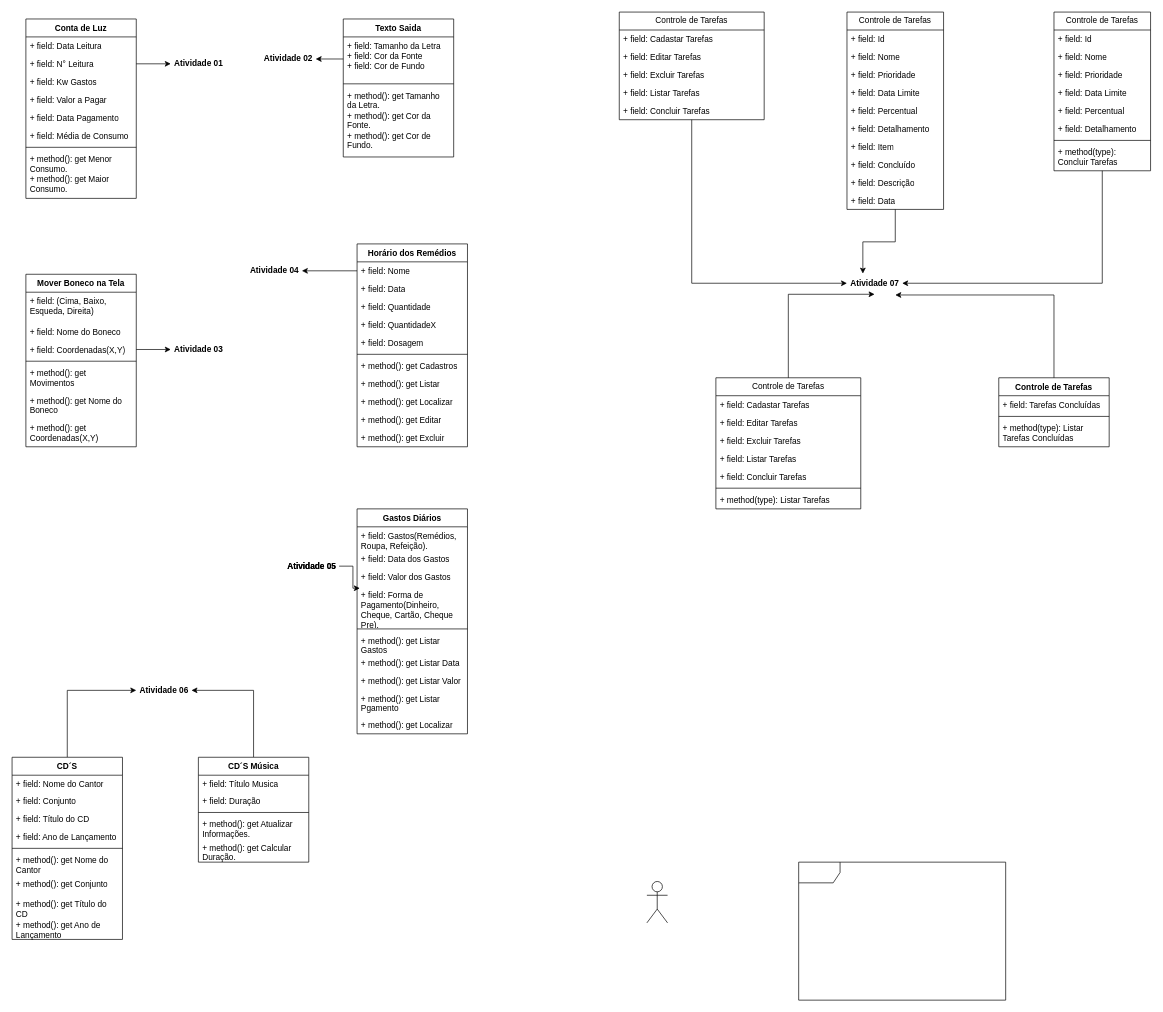
Some shapes in this 1163 by 1012 pixel diagram are drawn without their labels. The centre of each missing label's shape, as x and y in pixels:
"Actor" goes at (657,902).
"frame" goes at (902,930).
